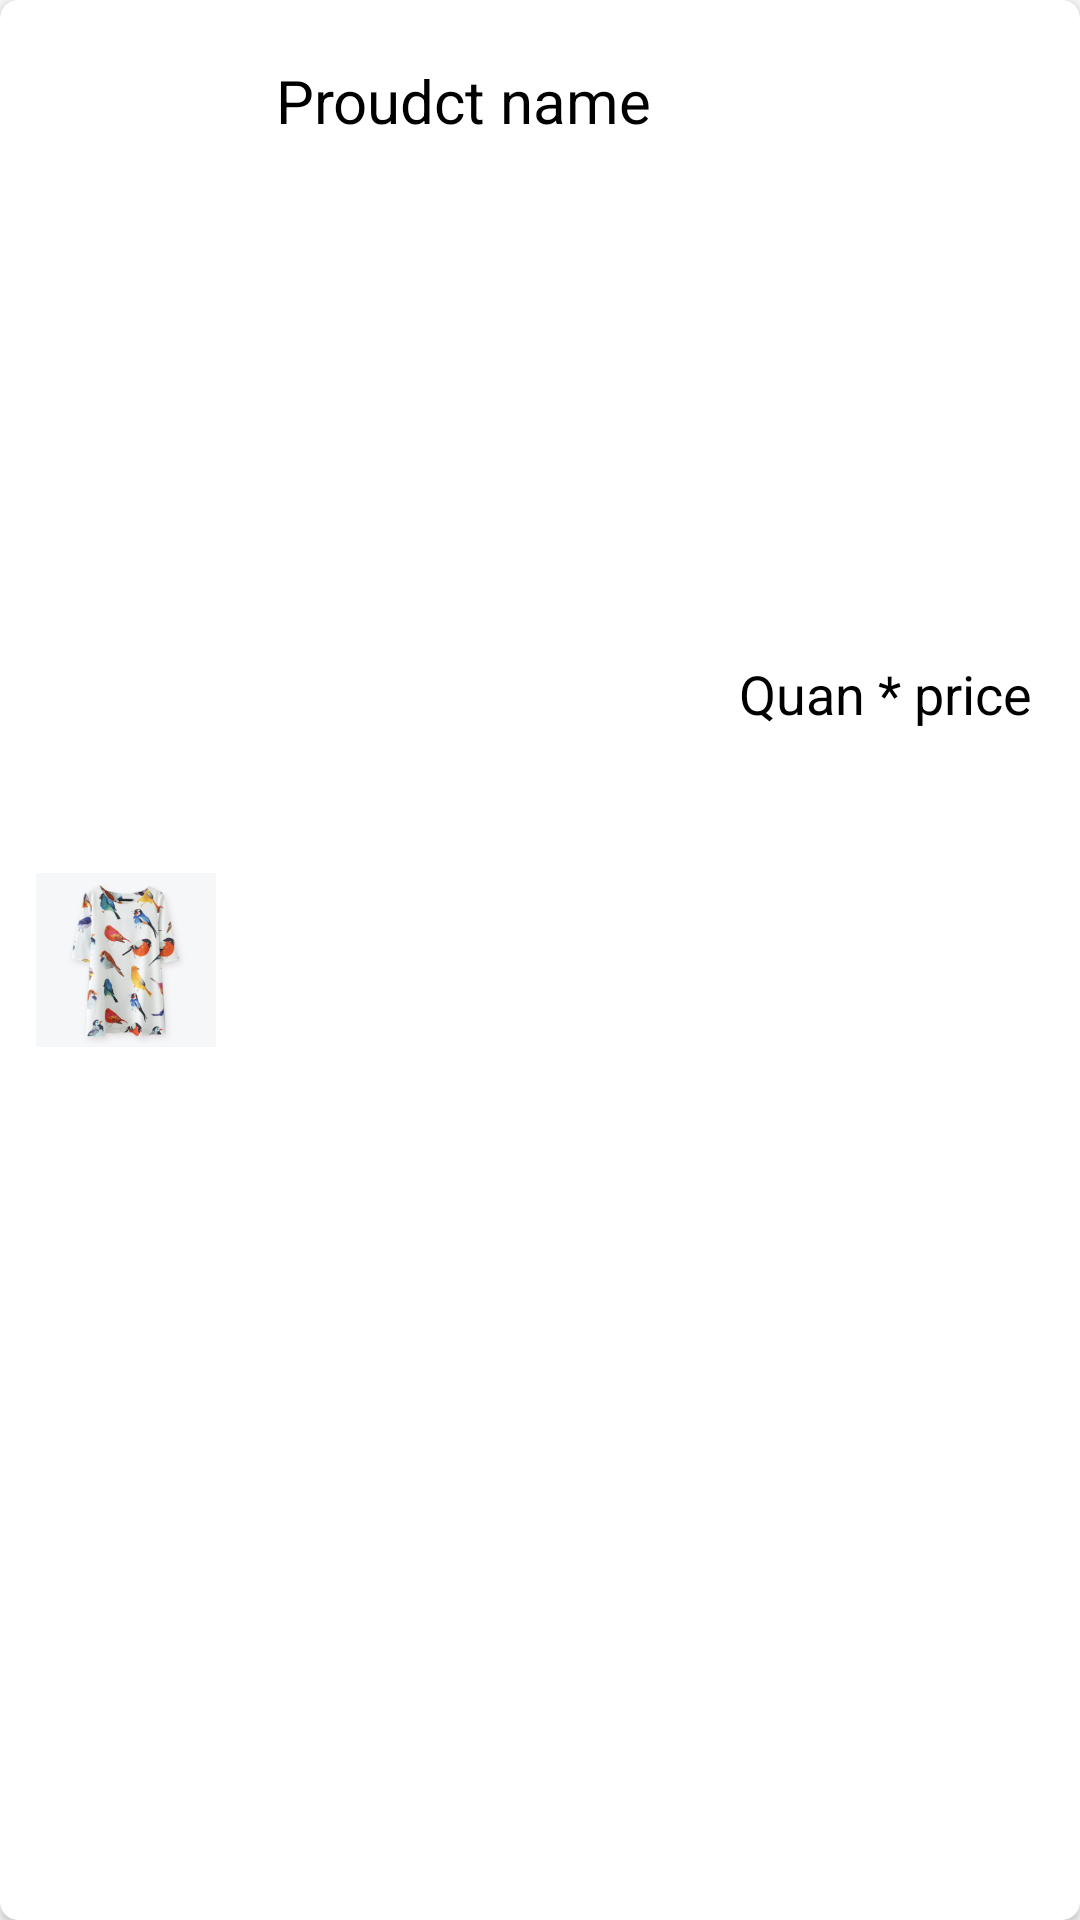

Icons on this 1080x1920 Android screen, each with the point to tap as [x,y]:
catimg: [126,962]
